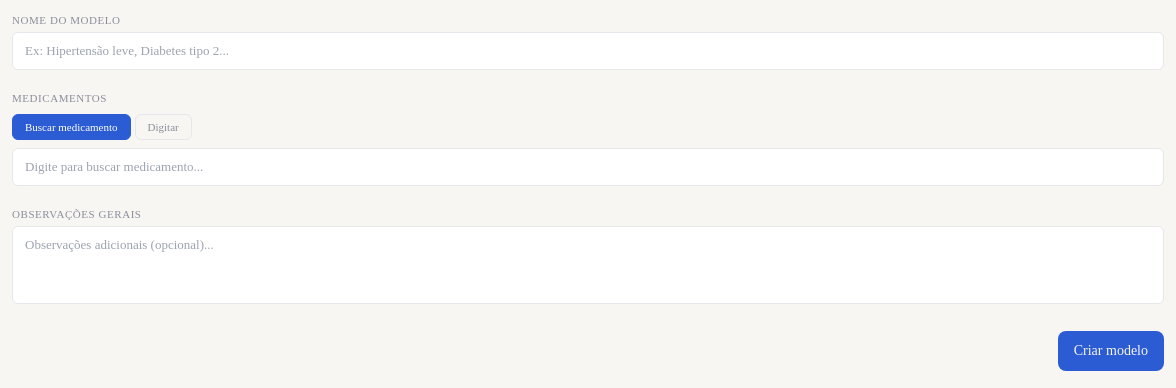
Test: PrescriptionTemplateForm (integration) › switches to ingredient tab when clicking Digitar
Step 1. Click the button with test id "prescription-template-form-tab-ingredient" → point(163, 127), box 135,114 -> 192,140
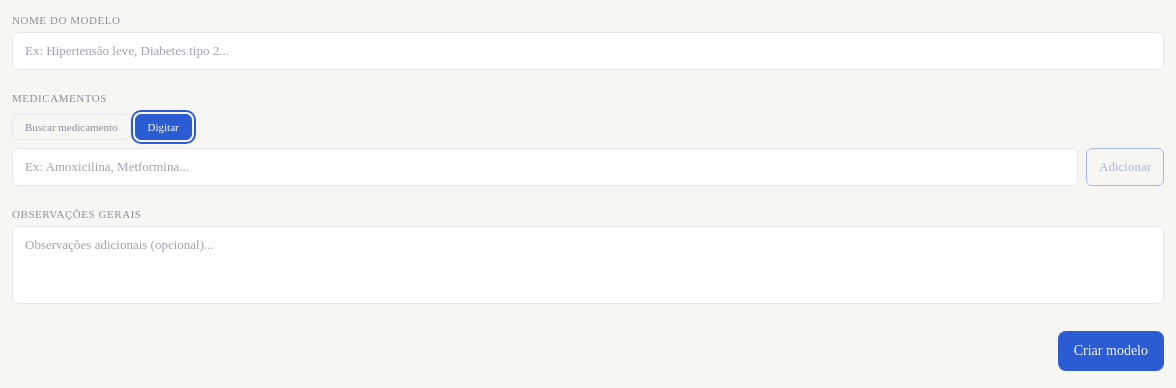
Now the field with test id "prescription-template-form-manual-input" is shown, box 12,148 -> 1078,186
Now the field with test id "prescription-template-form-search" is gone
